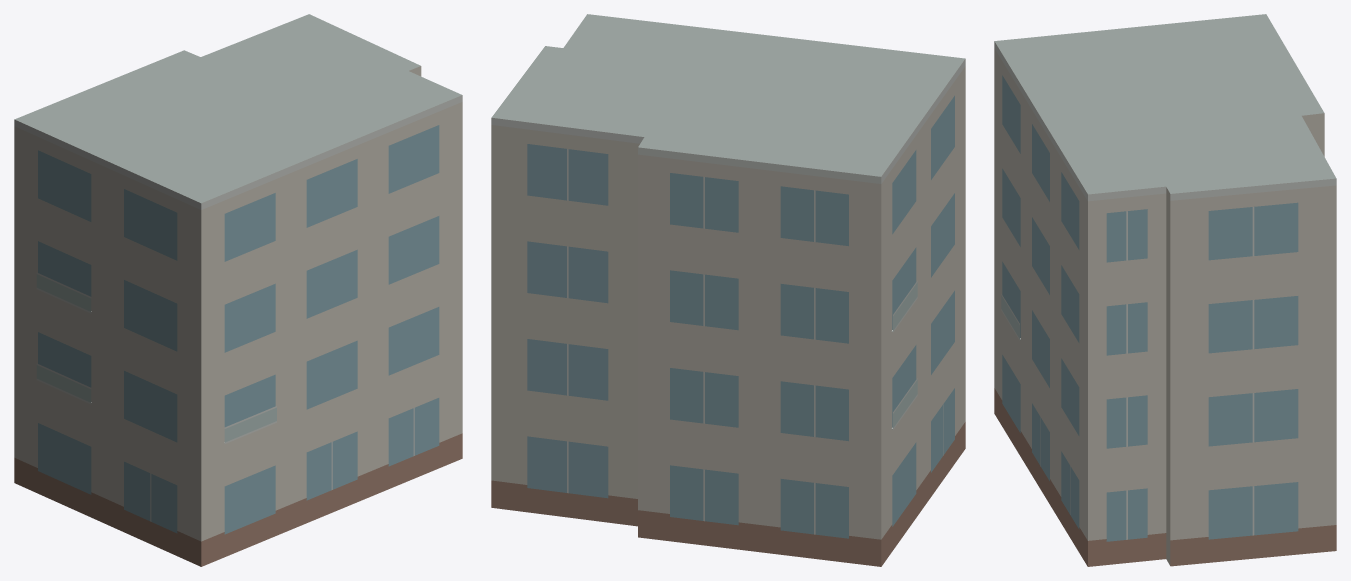
Rendered from survey-upis-32824117.glb.
3 views of the same model, side by side, from view 1: azimuth 30°, elevation 25°; view 2: azimuth 150°, elevation 25°; view 3: azimuth 270°, elevation 25° (orthographic). The views are drawn at different scales.
Parts seen in each view (by area): view 1: survey-upis-32824117.tmp; view 2: survey-upis-32824117.tmp; view 3: survey-upis-32824117.tmp.
Boxes of the visible parts, box(x1,y1,x2,y2) form: survey-upis-32824117.tmp: box(14, 14, 462, 566); survey-upis-32824117.tmp: box(491, 14, 965, 566); survey-upis-32824117.tmp: box(994, 14, 1336, 566).
Bounding box in the file's own units: 13.68 × 13.15 × 10.96.
